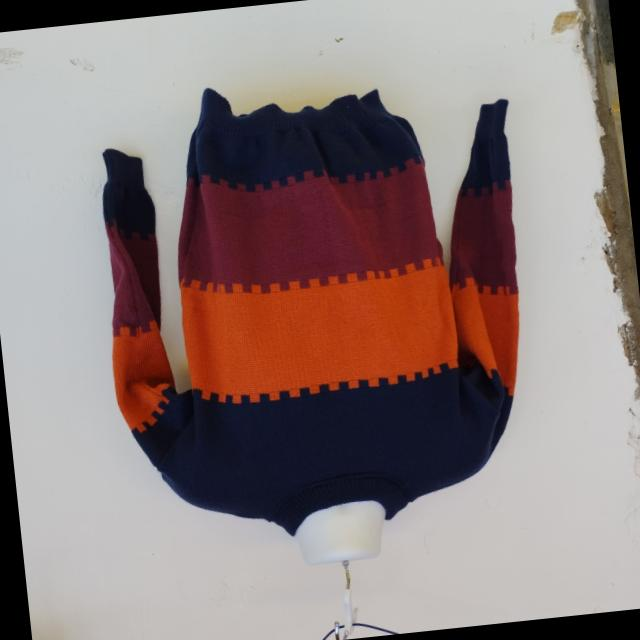Chompa: (84, 57, 553, 579)
